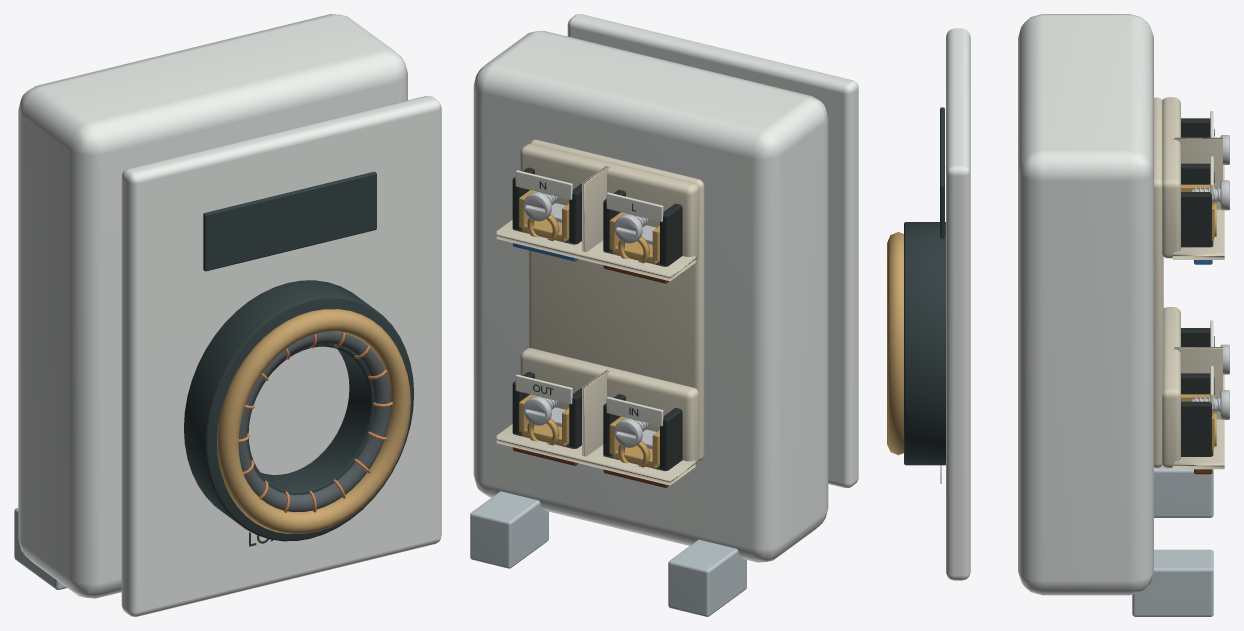
Rendered from sensor_mode_load.glb.
The picture shows the model from 3 angles, left to right: view 1: azimuth 30°, elevation 25°; view 2: azimuth 150°, elevation 25°; view 3: azimuth 270°, elevation 25°; orthographic projection. The views are drawn at different scales.
Parts seen in each view (by area): view 1: Load controller DIN fascia, Rounded sensor mounting base, Split-core current sensor, Current transformer winding, part:cover · Machinery thermoplastic, Toroidal ferrite core, detail:sensor-transducer · Detail oxygen-free copper, part:mounting · Machined steel; view 2: Rounded sensor mounting base, part:terminals · Original 5a609f27, Load controller DIN fascia, part:mounting · Machined steel, detail:terminal-clamp:IN · Detail moulded engineering polyme, detail:terminal-clamp:L · Detail moulded engineering polymer, detail:terminal-clamp:IN · Detail machined brass, detail:terminal-clamp:L · Detail machined brass, detail:terminal-clamp:OUT · Detail machined brass, detail:terminal-clamp:N · Detail machined brass, detail:terminal-clamp:N · Detail moulded engineering polymer, detail:terminal-clamp:OUT · Detail moulded engineering polym (+8 smaller); view 3: Rounded sensor mounting base, part:terminals · Original 5a609f27, Load controller DIN fascia, Split-core current sensor, part:mounting · Machined steel, Current transformer winding, detail:terminal-clamp:N · Detail moulded engineering polymer, detail:terminal-clamp:OUT · Detail moulded engineering polym, part:cover · Machinery thermoplastic, detail:terminal-clamp:L · Detail moulded engineering polymer, detail:terminal-clamp:IN · Detail moulded engineering polyme, detail:terminal-clamp:OUT · Detail zinc plated fixing (+1 smaller).
Part boxes in pixels (box(x1,y1,x2,y2)): Load controller DIN fascia: box(121, 95, 441, 616); Rounded sensor mounting base: box(18, 14, 407, 598); Split-core current sensor: box(184, 280, 413, 541); Current transformer winding: box(217, 309, 410, 533); part:cover · Machinery thermoplastic: box(203, 171, 376, 546); Toroidal ferrite core: box(238, 331, 390, 512); detail:sensor-transducer · Detail oxygen-free copper: box(238, 332, 392, 512); part:mounting · Machined steel: box(14, 508, 66, 589); Rounded sensor mounting base: box(473, 30, 828, 562); part:terminals · Original 5a609f27: box(496, 139, 704, 485); Load controller DIN fascia: box(567, 14, 858, 488); part:mounting · Machined steel: box(470, 491, 746, 616); detail:terminal-clamp:IN · Detail moulded engineering polyme: box(603, 394, 682, 471); detail:terminal-clamp:L · Detail moulded engineering polymer: box(603, 189, 682, 266); detail:terminal-clamp:IN · Detail machined brass: box(609, 416, 659, 468); detail:terminal-clamp:L · Detail machined brass: box(609, 212, 659, 264); detail:terminal-clamp:OUT · Detail machined brass: box(519, 394, 569, 446); detail:terminal-clamp:N · Detail machined brass: box(519, 190, 569, 241); detail:terminal-clamp:N · Detail moulded engineering polymer: box(512, 167, 581, 244); detail:terminal-clamp:OUT · Detail moulded engineering polym: box(512, 372, 581, 448); Rounded sensor mounting base: box(1018, 14, 1153, 595); part:terminals · Original 5a609f27: box(1154, 97, 1224, 469); Load controller DIN fascia: box(946, 28, 970, 580); Split-core current sensor: box(904, 222, 945, 465); part:mounting · Machined steel: box(1132, 465, 1213, 616); Current transformer winding: box(887, 232, 903, 455); detail:terminal-clamp:N · Detail moulded engineering polymer: box(1181, 163, 1213, 247); detail:terminal-clamp:OUT · Detail moulded engineering polym: box(1181, 373, 1213, 456); part:cover · Machinery thermoplastic: box(940, 107, 944, 483); detail:terminal-clamp:L · Detail moulded engineering polymer: box(1181, 118, 1210, 137); detail:terminal-clamp:IN · Detail moulded engineering polyme: box(1181, 328, 1210, 346); detail:terminal-clamp:OUT · Detail zinc plated fixing: box(1191, 390, 1229, 419).
Size of the model in its own units: 0.6262 by 0.9078 by 0.5935.
